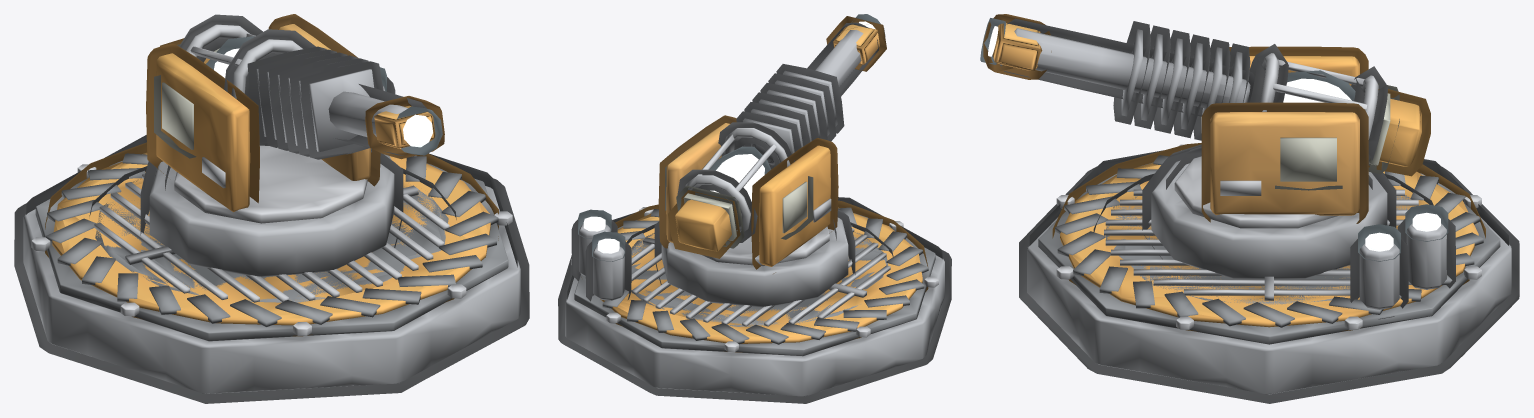
File: nova_artillery.glb
3 views of the same model, side by side, from view 1: azimuth 30°, elevation 25°; view 2: azimuth 150°, elevation 25°; view 3: azimuth 270°, elevation 25° (orthographic). The views are drawn at different scales.
Parts seen in each view (by area): view 1: M_NovaArtillery, M_Yaw, M_Arm_Outline, M_NovaArtillery_Outline, M_Arm, M_Yaw_Outline; view 2: M_NovaArtillery, M_Yaw, M_Arm, M_Arm_Outline, M_NovaArtillery_Outline, M_Yaw_Outline; view 3: M_NovaArtillery, M_Yaw, M_Arm, M_NovaArtillery_Outline, M_Arm_Outline, M_Yaw_Outline.
Part boxes in pixels (x1=…): M_NovaArtillery: x1=23, y1=86, x2=520, y2=393; M_Yaw: x1=149, y1=24, x2=394, y2=277; M_Arm_Outline: x1=160, y1=14, x2=444, y2=159; M_NovaArtillery_Outline: x1=14, y1=67, x2=529, y2=403; M_Arm: x1=186, y1=24, x2=435, y2=151; M_Yaw_Outline: x1=140, y1=14, x2=403, y2=247; M_NovaArtillery: x1=565, y1=207, x2=944, y2=396; M_Yaw: x1=661, y1=123, x2=848, y2=307; M_Arm: x1=675, y1=21, x2=880, y2=251; M_Arm_Outline: x1=668, y1=14, x2=886, y2=258; M_NovaArtillery_Outline: x1=558, y1=197, x2=951, y2=403; M_Yaw_Outline: x1=654, y1=115, x2=855, y2=284; M_NovaArtillery: x1=1027, y1=144, x2=1511, y2=394; M_Yaw: x1=1151, y1=56, x2=1387, y2=278; M_Arm: x1=988, y1=23, x2=1421, y2=166; M_NovaArtillery_Outline: x1=1019, y1=143, x2=1519, y2=403; M_Arm_Outline: x1=980, y1=14, x2=1430, y2=176; M_Yaw_Outline: x1=1142, y1=46, x2=1396, y2=259.
Bounding box in the file's own units: 3.18 × 1.98 × 3.43.
